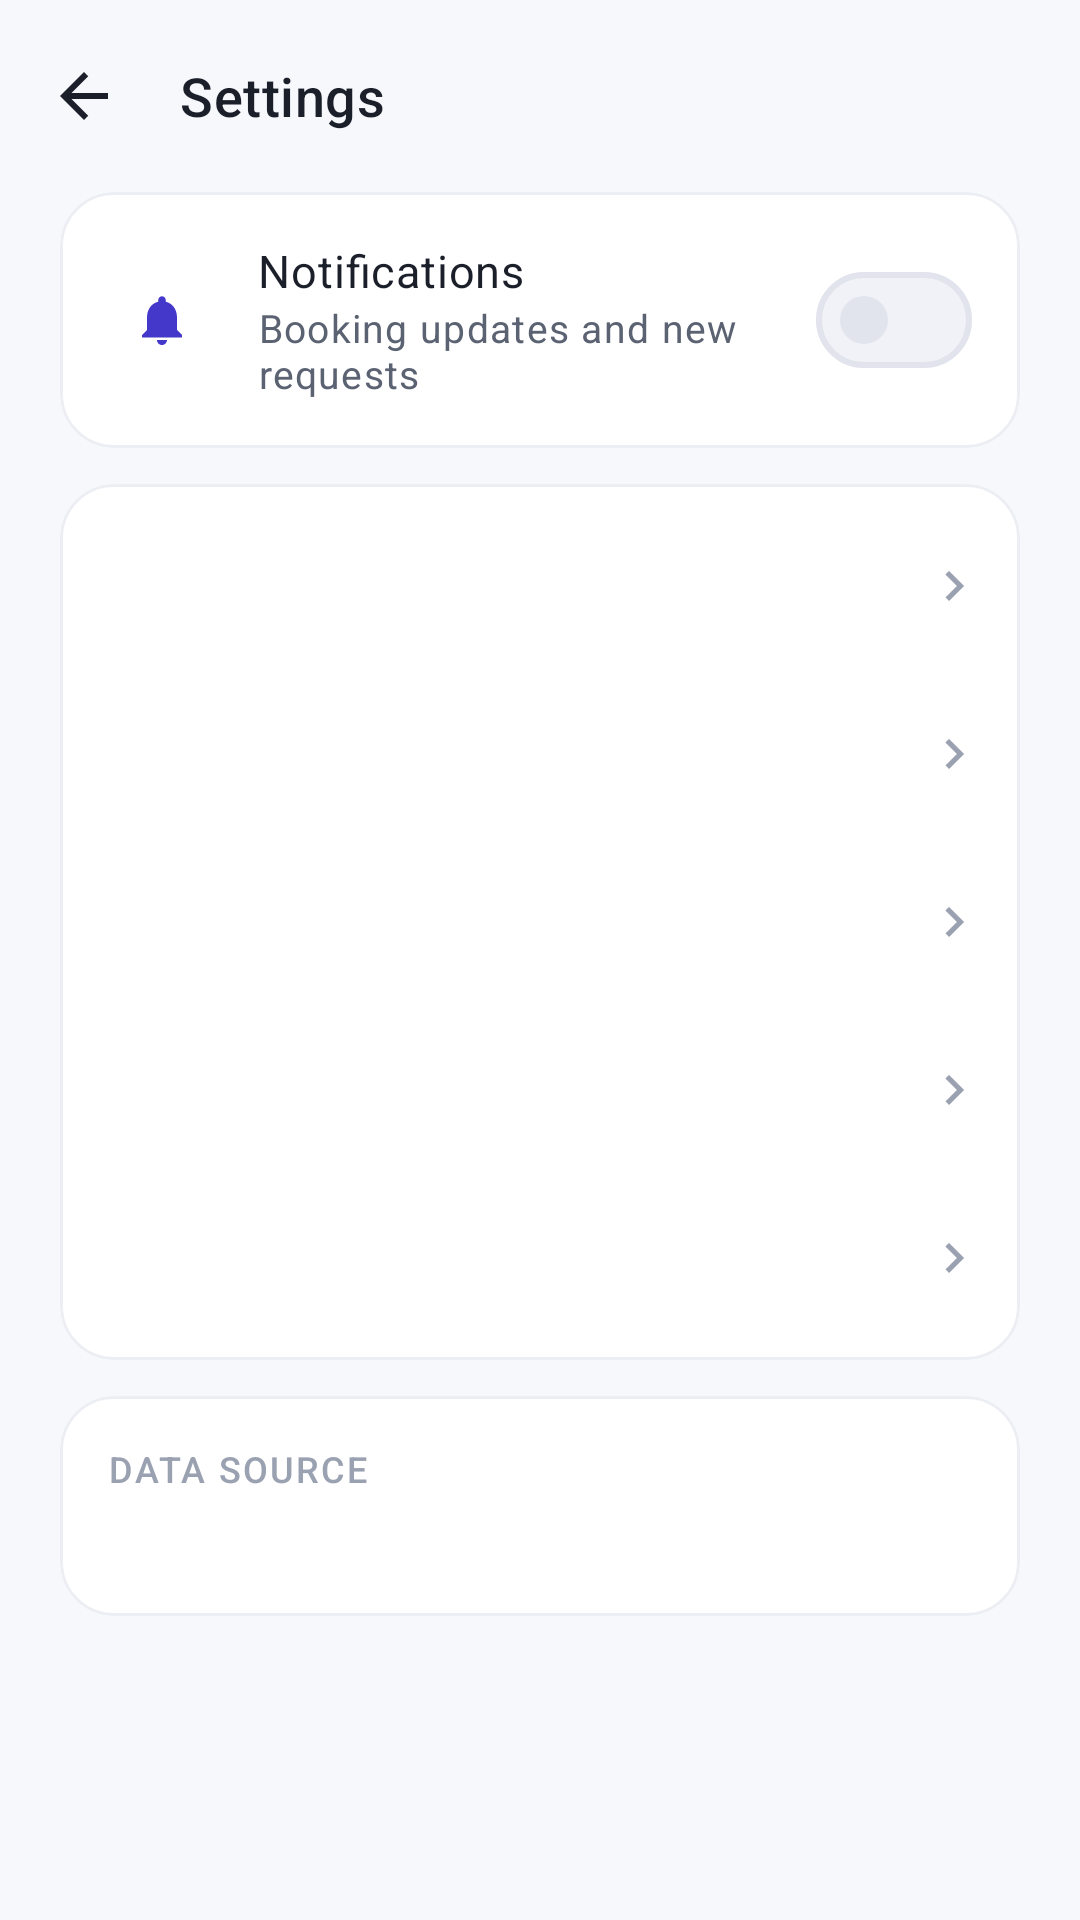

Screen size 1080px×1920px. Icon name, then its box in pixels as [x1, y1, x2, y2]:
chevron right: [945, 571, 964, 601], [945, 739, 964, 769], [945, 907, 964, 937], [945, 1075, 964, 1105], [945, 1243, 964, 1273]
